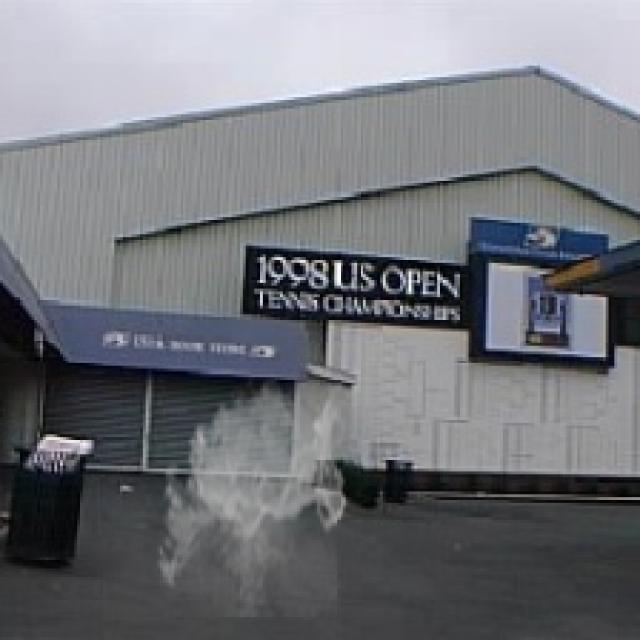Smoke: (152, 374, 352, 617)
